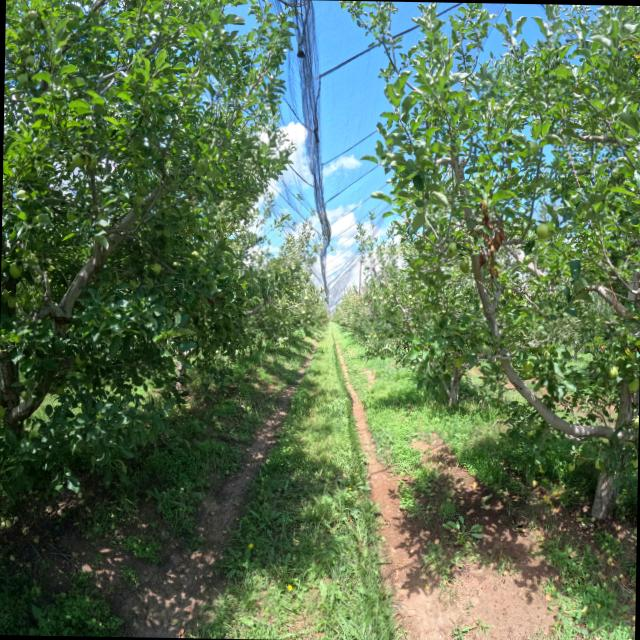-FireBlight-: (476, 199, 509, 286)
